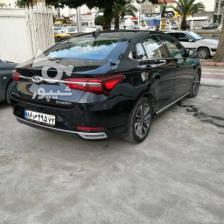plate: (24, 108, 55, 125)
